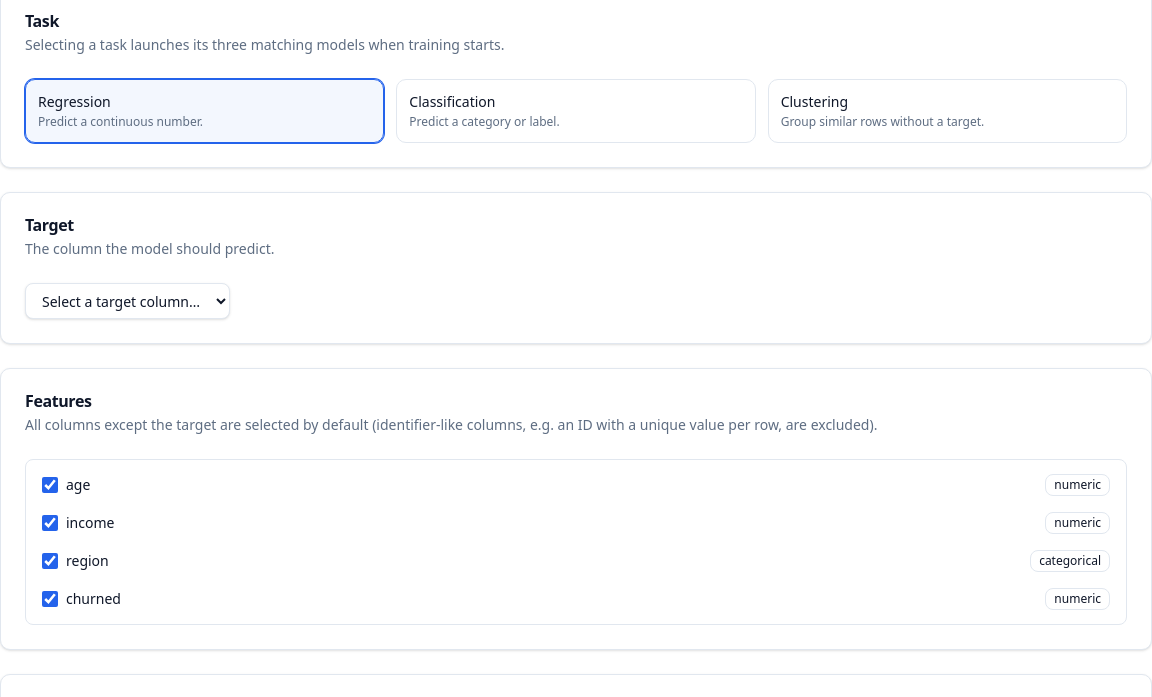
Test: ConfigureStep › shows the preprocessing impact once a target and features are chosen
Select "churned" in the dropdown named "Target column": (128, 301) [25, 283, 230, 319]
(page scrolled)
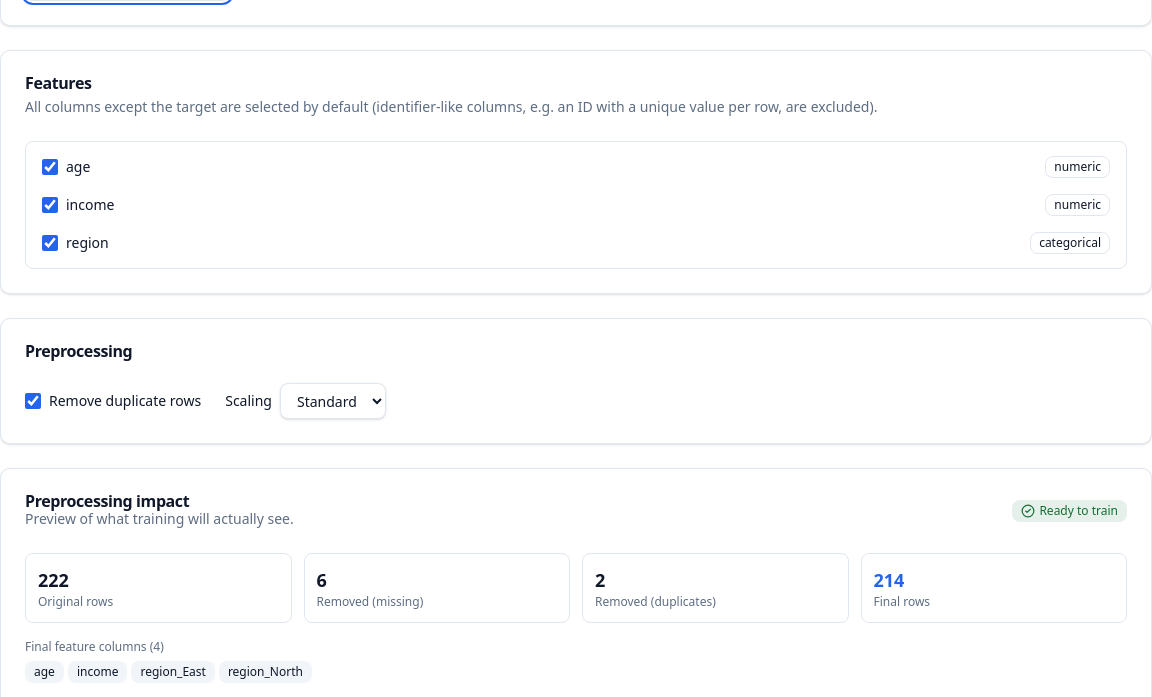
Result: the text "Ready to train" is shown at [1012, 500, 1127, 522]
Result: the text "214" is shown at [874, 568, 904, 592]
